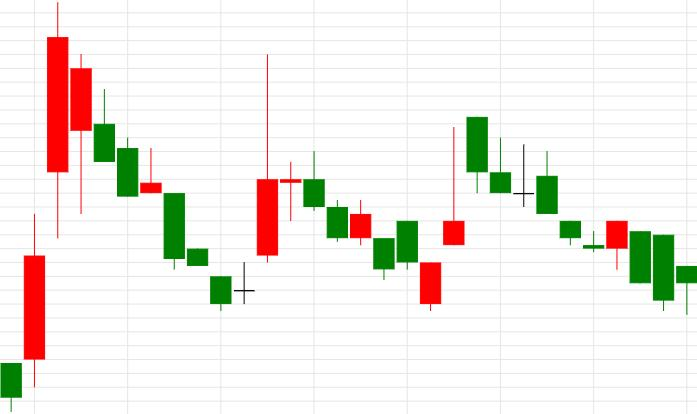evening_star_fall: (209, 53, 325, 310)
